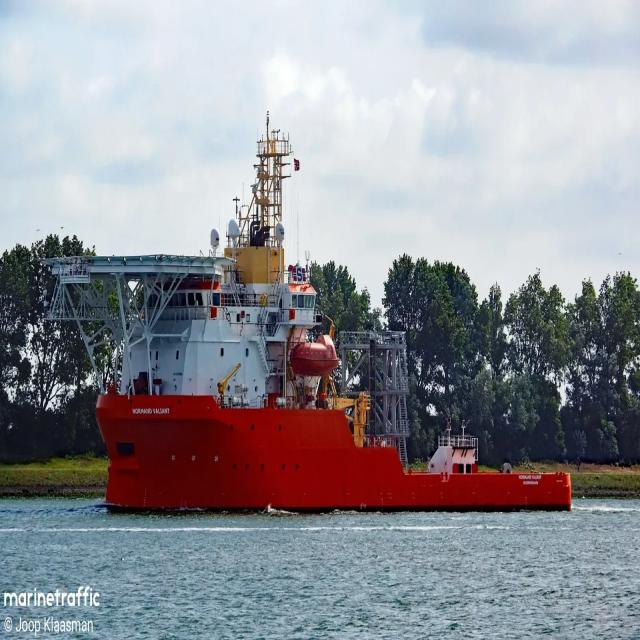Offshore: (46, 121, 570, 511)
